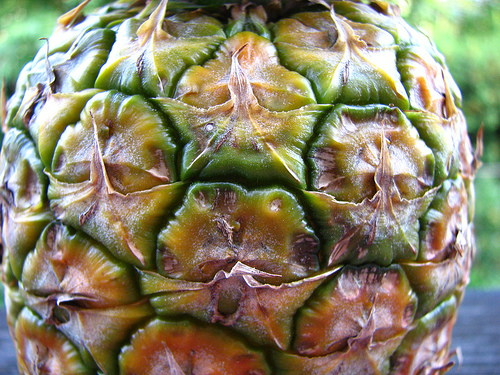pineapple: (1, 0, 484, 374)
